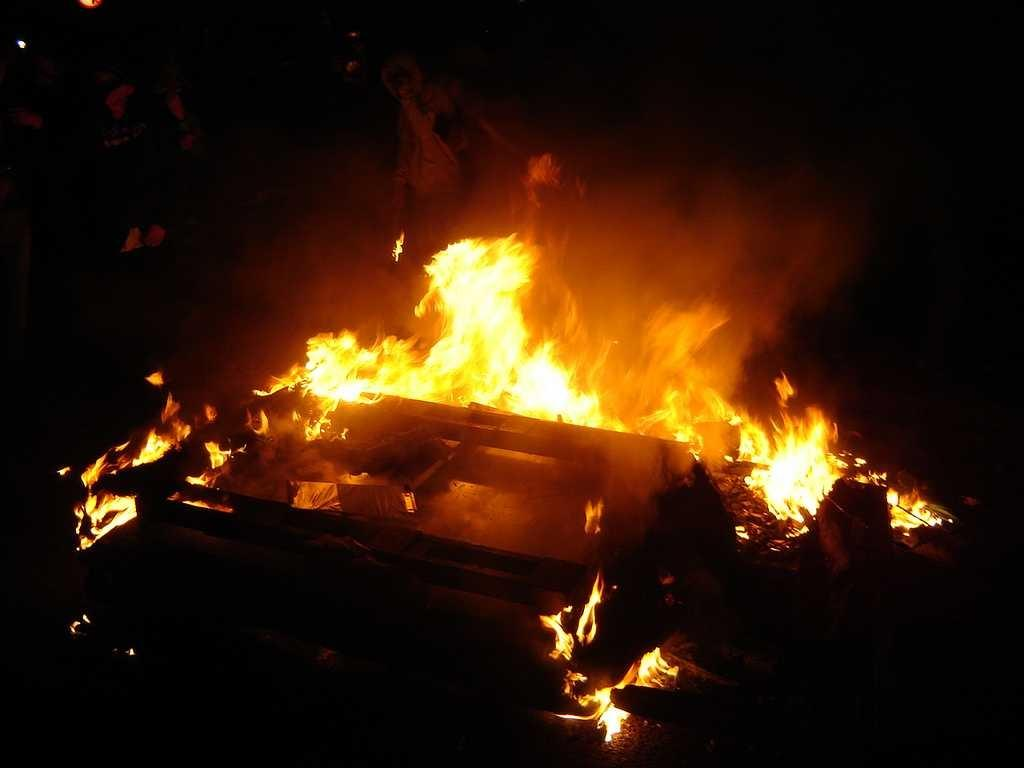fire: (442, 252, 548, 400), (766, 420, 832, 510), (306, 332, 374, 410)
